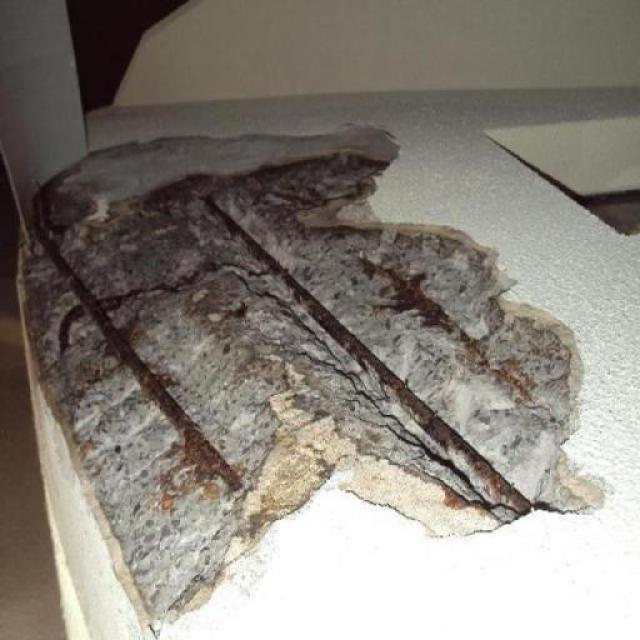D0w0: (24, 129, 601, 619)
